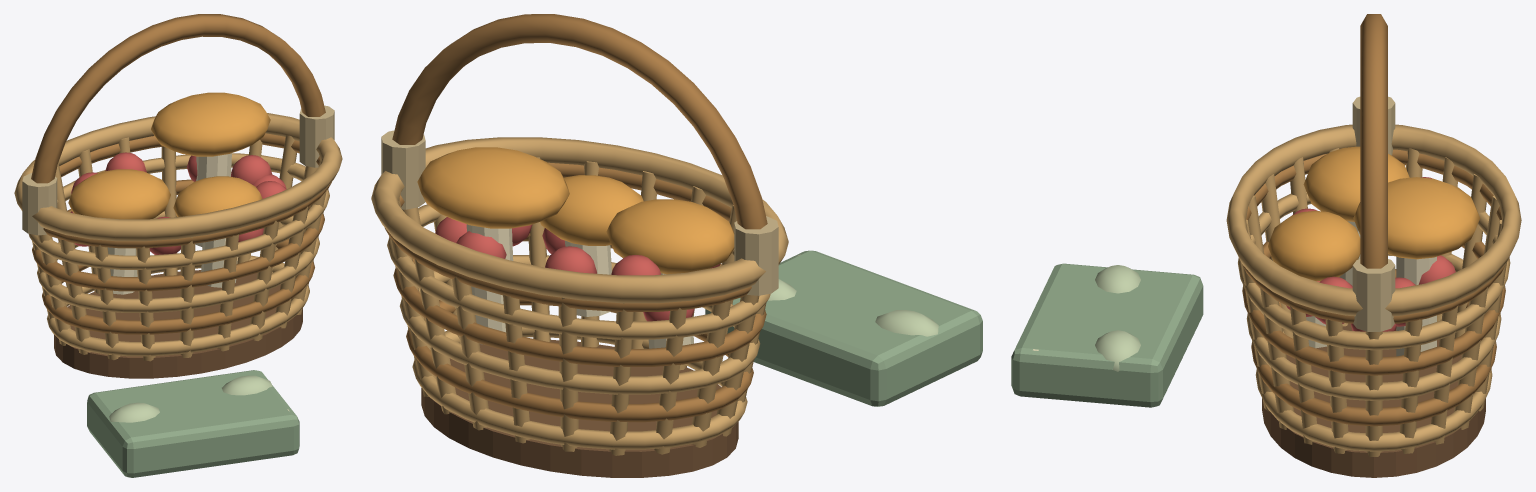
The model's file is SM_ForagingBasket.fbx.
3 renders of one model, left to right at view 1: azimuth 30°, elevation 25°; view 2: azimuth 150°, elevation 25°; view 3: azimuth 270°, elevation 25°, orthographic. The views are drawn at different scales.
Visible parts, largest first — view 1: SM_ForagingBasket; view 2: SM_ForagingBasket; view 3: SM_ForagingBasket.
Part boxes in pixels (bbox=[...]): SM_ForagingBasket: bbox=[14, 14, 342, 477]; SM_ForagingBasket: bbox=[371, 14, 982, 477]; SM_ForagingBasket: bbox=[1011, 14, 1521, 477].
Size of the model in its own units: 0.8787 by 0.9564 by 0.7925.
